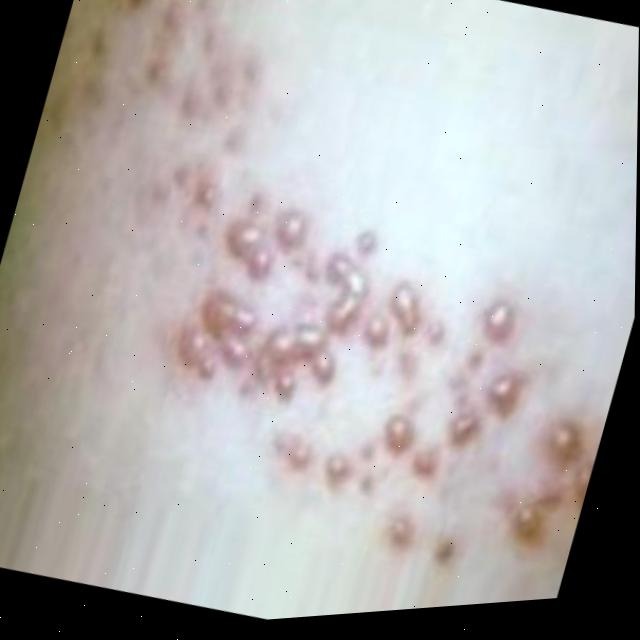Shingles: (82, 125, 637, 605), (72, 0, 311, 174)
